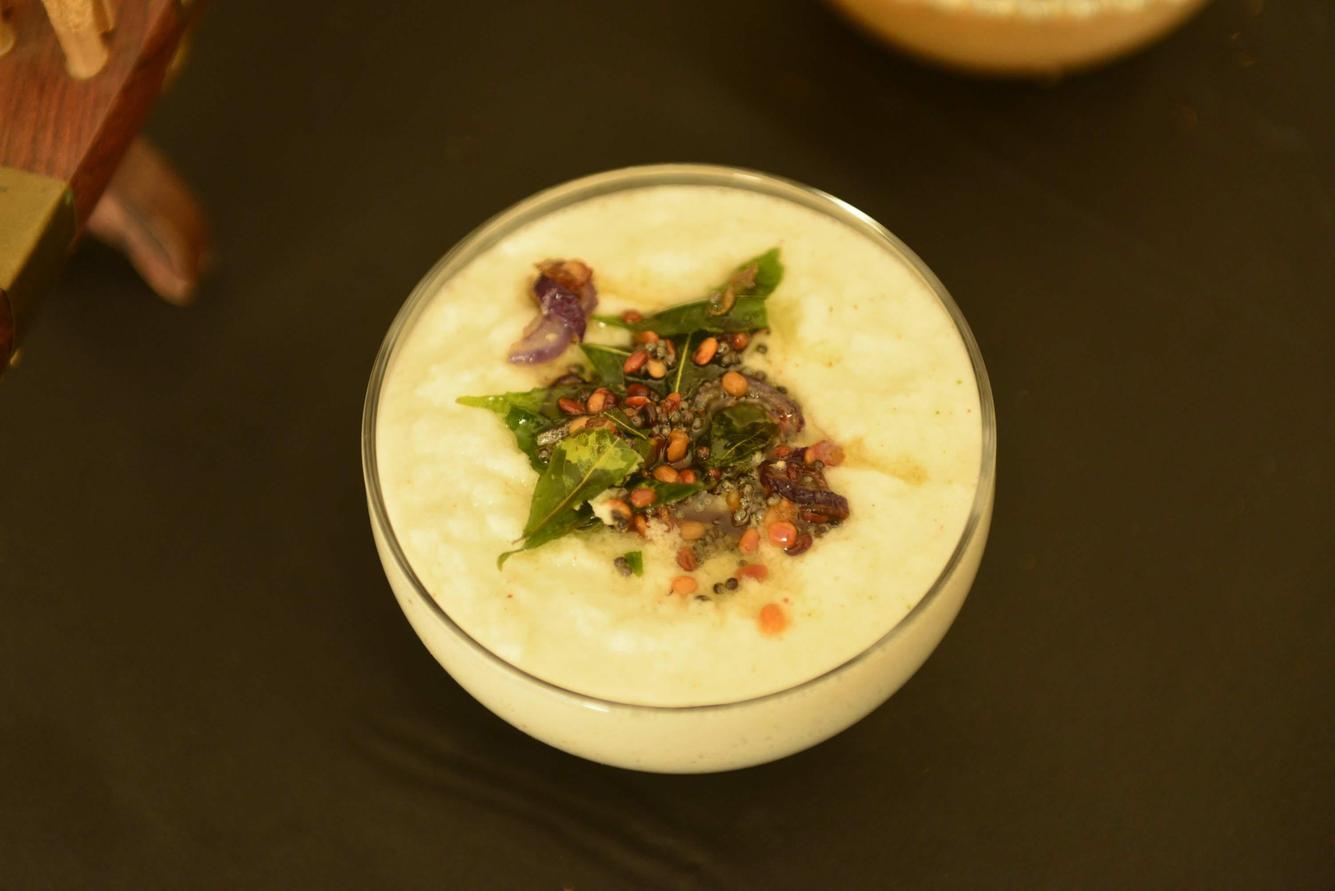CoconutChutney: (374, 181, 985, 771)
